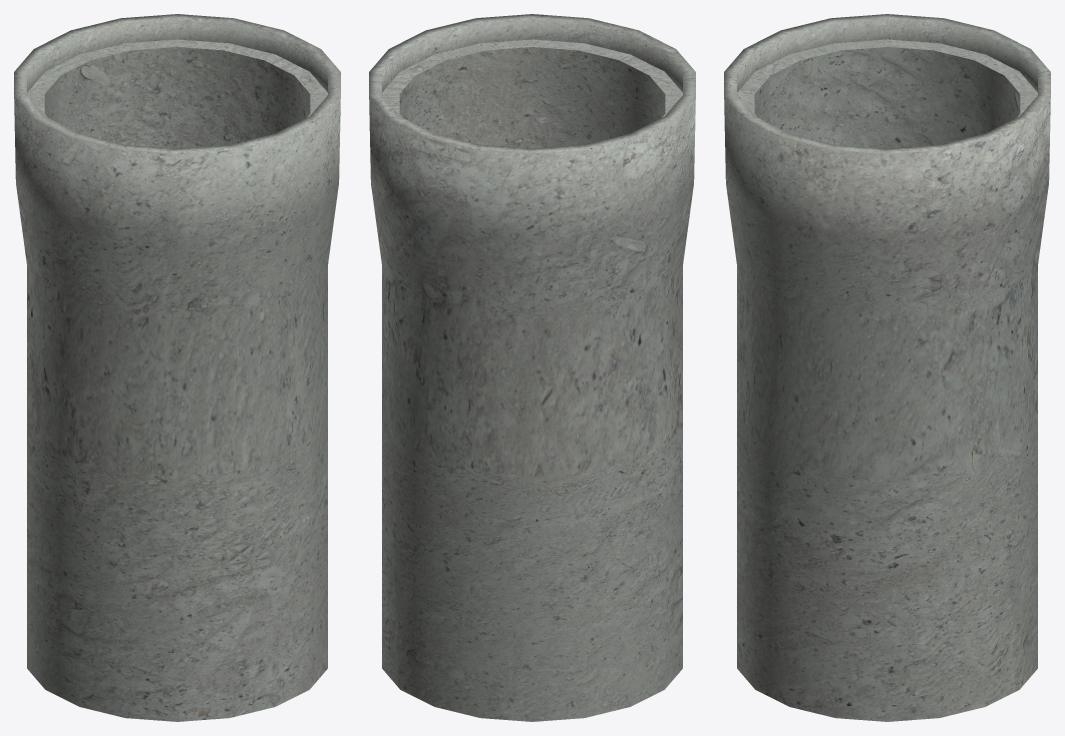
Rendered from pipe.FBX.
3 renders of one model, left to right at view 1: azimuth 30°, elevation 25°; view 2: azimuth 150°, elevation 25°; view 3: azimuth 270°, elevation 25°, orthographic.
Parts seen in each view (by area): view 1: Cylinder001; view 2: Cylinder001; view 3: Cylinder001.
Part boxes in pixels (left/top/right/bottom): Cylinder001: left=14, top=14, right=340, bottom=721; Cylinder001: left=369, top=14, right=695, bottom=721; Cylinder001: left=724, top=14, right=1050, bottom=721.
Size of the model in its own units: 109 by 207 by 107.
